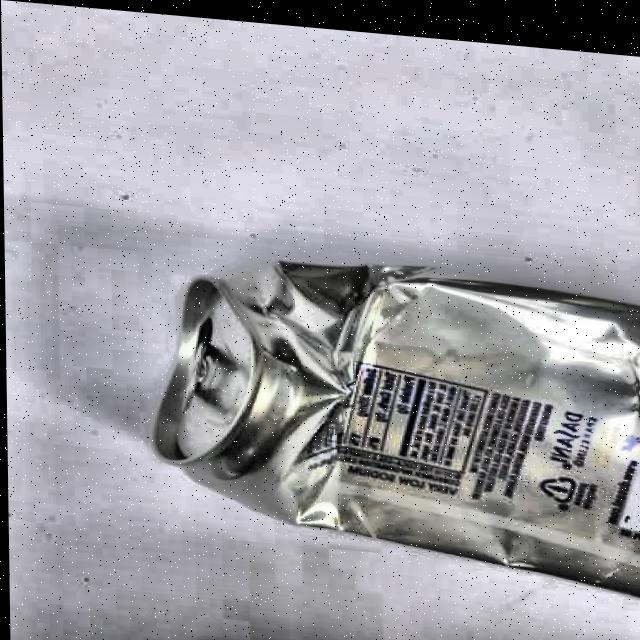metal: (144, 242, 640, 607)
